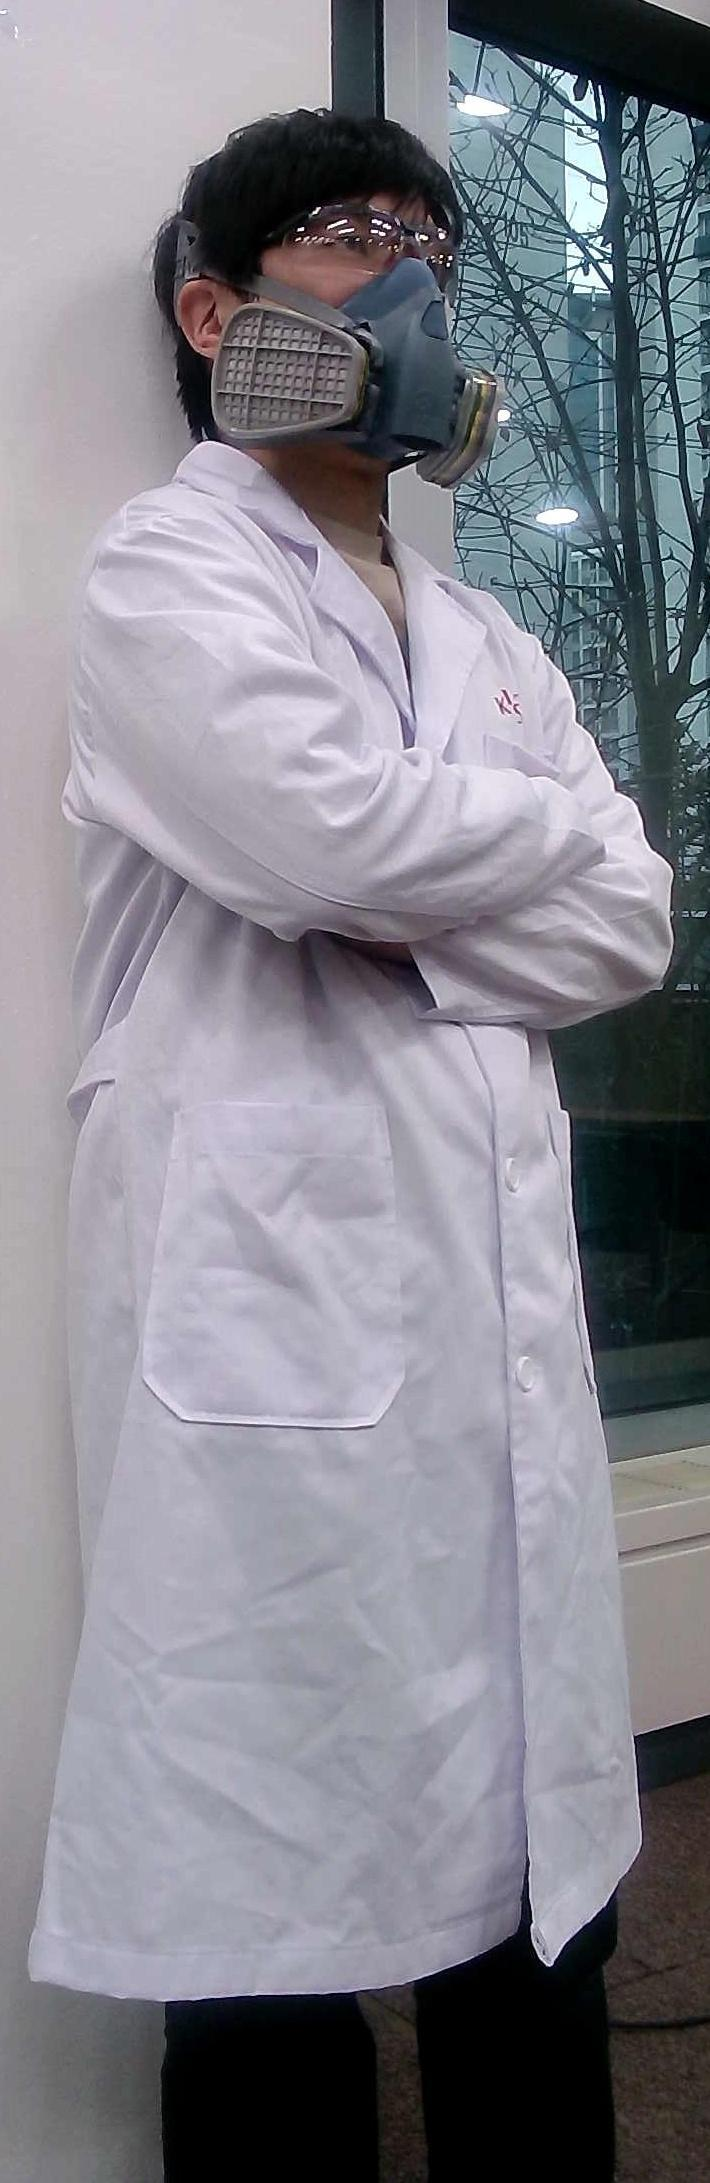lab_coat: (6, 471, 697, 1964)
